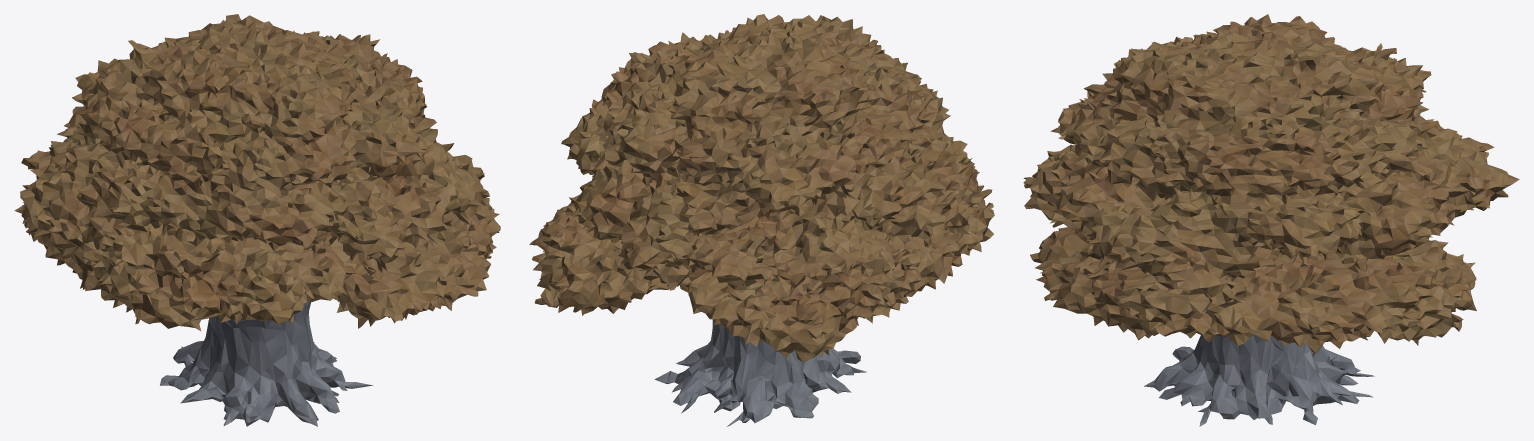
File: ironwood_tree.glb
3 renders of one model, left to right at view 1: azimuth 30°, elevation 25°; view 2: azimuth 150°, elevation 25°; view 3: azimuth 270°, elevation 25°, orthographic.
Parts seen in each view (by area): view 1: world; view 2: world; view 3: world.
Part boxes in pixels (x1=…): world: x1=14, y1=14, x2=500, y2=426; world: x1=529, y1=14, x2=994, y2=426; world: x1=1023, y1=14, x2=1519, y2=426.
Size of the model in its own units: 5.74 by 5 by 6.55.
